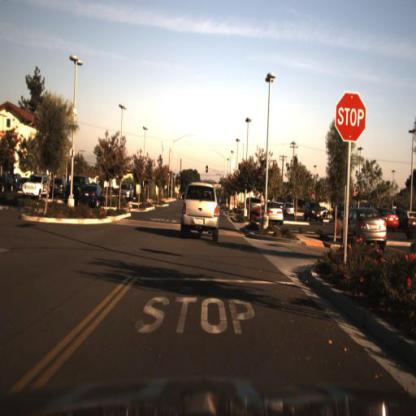car: (336, 201, 393, 258), (179, 178, 224, 248), (338, 201, 391, 249), (305, 197, 333, 230), (18, 172, 52, 199), (263, 195, 287, 230), (77, 185, 107, 210), (303, 199, 327, 226), (63, 175, 84, 204), (84, 180, 105, 207), (244, 195, 263, 218), (116, 182, 136, 203), (50, 179, 68, 200), (120, 183, 137, 205), (282, 200, 299, 220)
trafficLight-Red: (175, 177, 180, 187)
trafficLight-Yellow: (206, 165, 211, 178)
